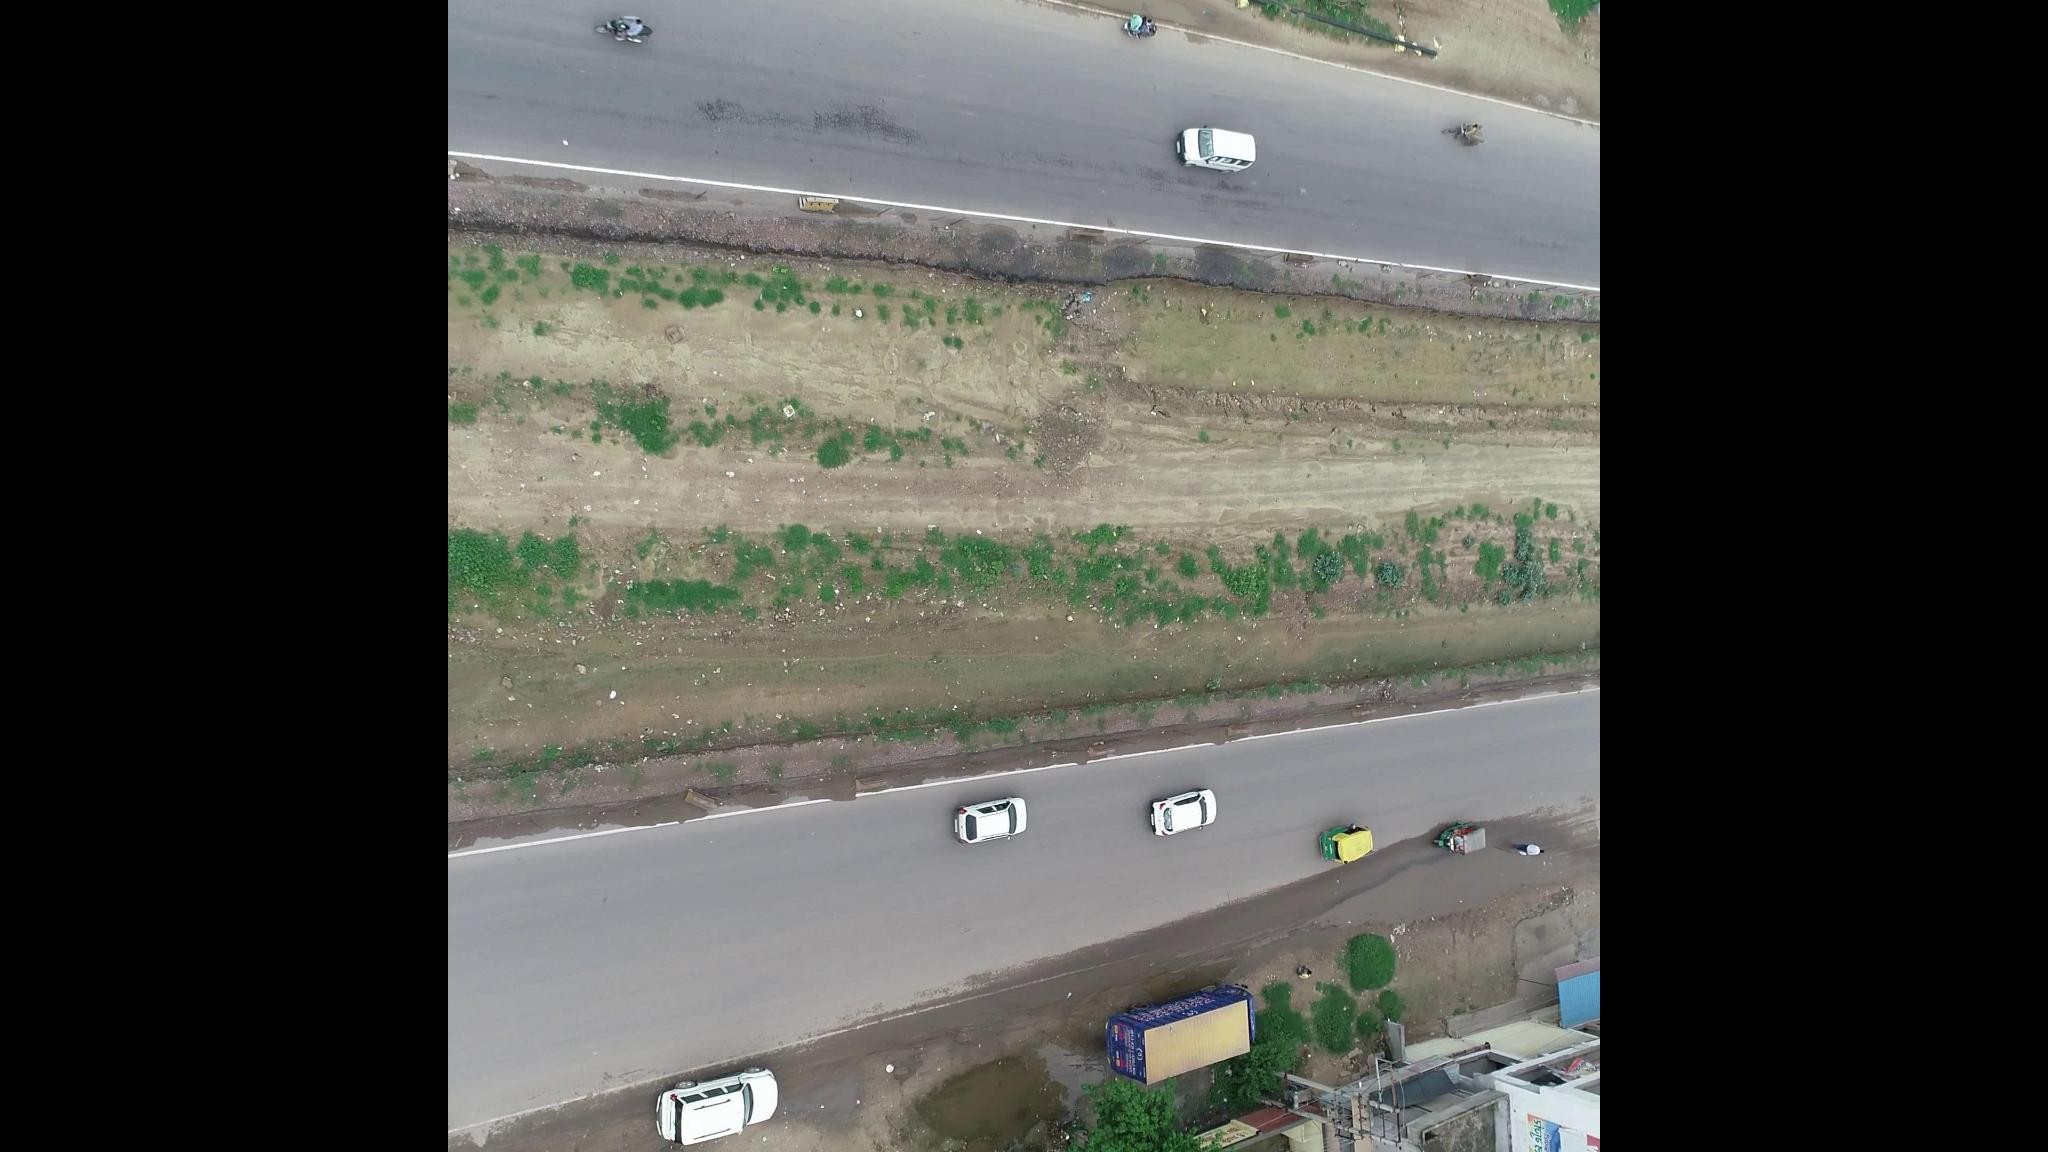Cracks: (695, 90, 927, 155)
